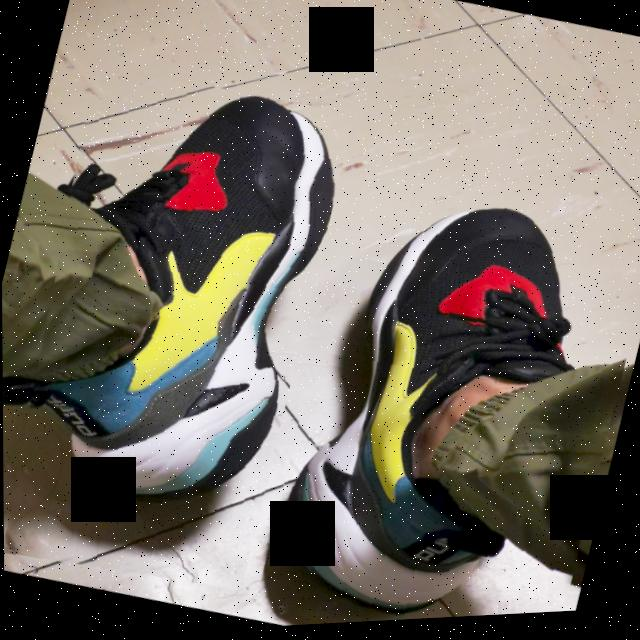shoe: (0, 54, 357, 611), (248, 144, 640, 630)
